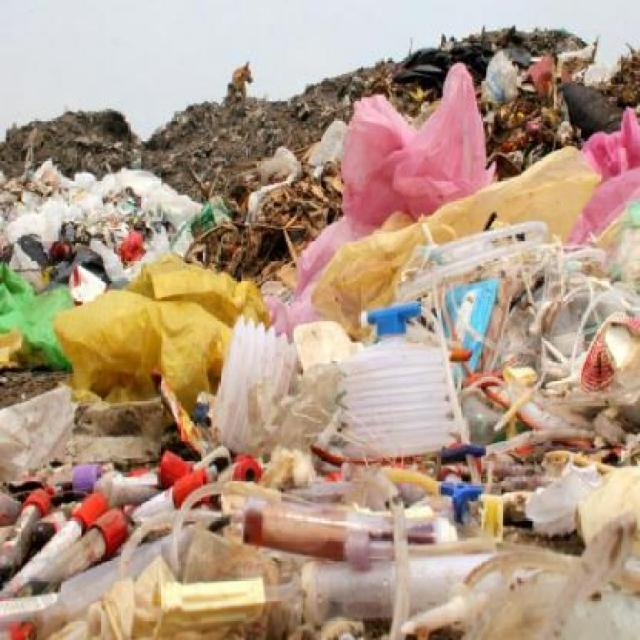garbage: (11, 172, 617, 638)
